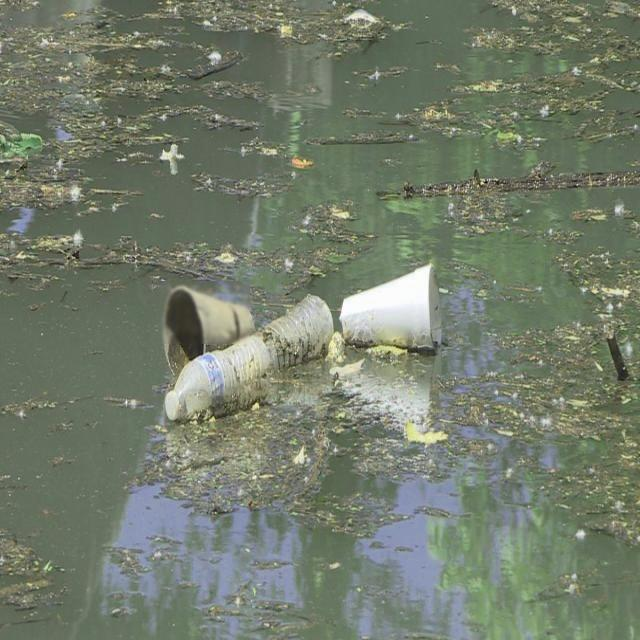Plastic: (338, 254, 446, 352), (160, 282, 258, 387), (161, 338, 278, 420), (262, 281, 333, 364)
